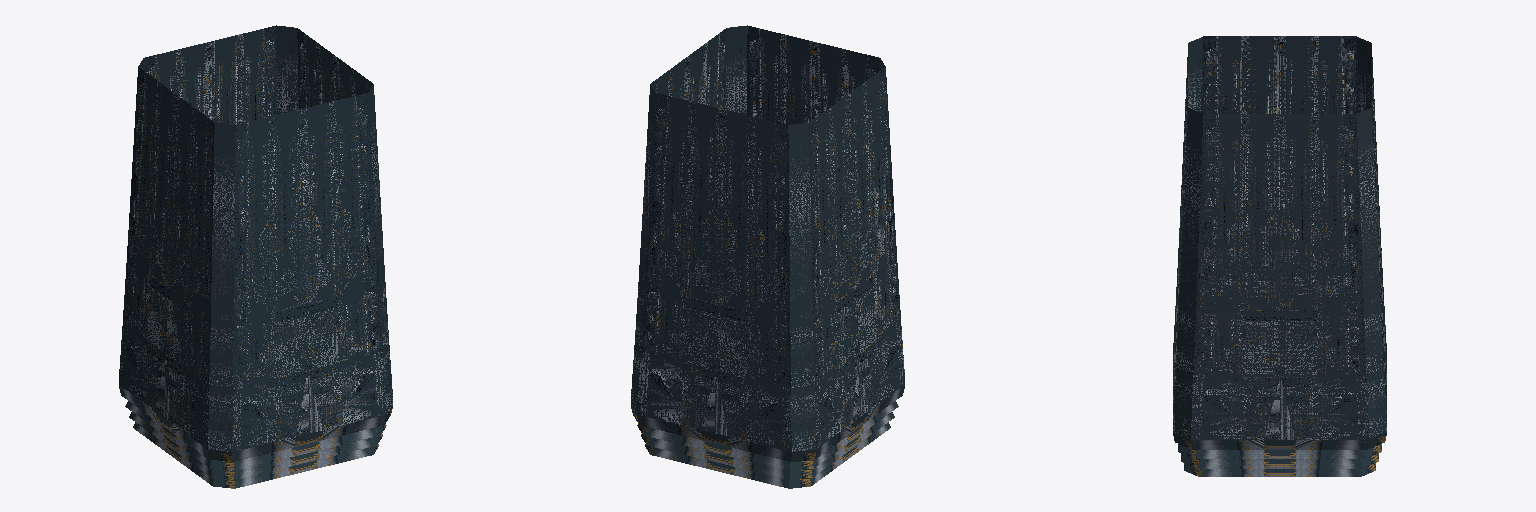
3 views of the same model, side by side, from view 1: azimuth 30°, elevation 25°; view 2: azimuth 150°, elevation 25°; view 3: azimuth 270°, elevation 25° (orthographic).
Size of the model in its own units: 20.52 by 38.16 by 20.52.
1 materials, 1 textured.